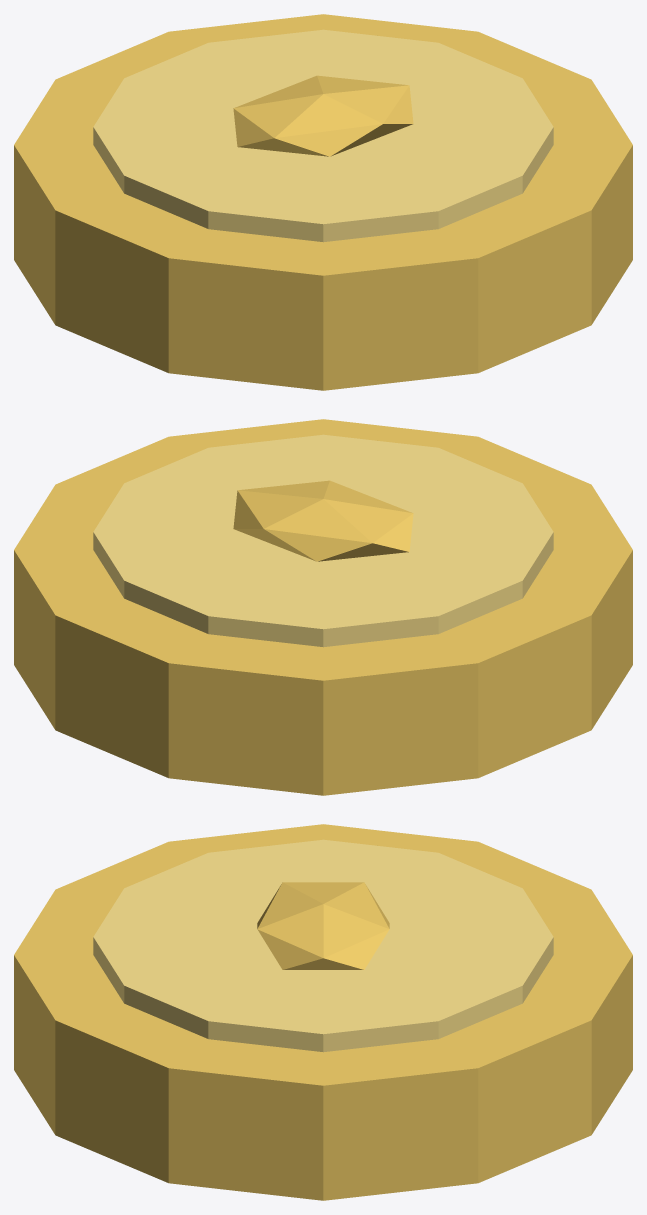
File: item_coin.glb
The picture shows the model from 3 angles, top to bottom: view 1: azimuth 30°, elevation 25°; view 2: azimuth 150°, elevation 25°; view 3: azimuth 270°, elevation 25°; orthographic projection.
Parts seen in each view (by area): view 1: coin, raised coin face, coin seed emblem; view 2: coin, raised coin face, coin seed emblem; view 3: coin, raised coin face, coin seed emblem.
Part boxes in pixels (x1,y1,x2,y2): coin: [14, 14, 632, 390]; raised coin face: [93, 29, 553, 242]; coin seed emblem: [233, 75, 413, 156]; coin: [14, 419, 632, 795]; raised coin face: [93, 434, 553, 647]; coin seed emblem: [233, 480, 413, 561]; coin: [14, 824, 632, 1200]; raised coin face: [93, 839, 553, 1052]; coin seed emblem: [257, 882, 389, 969].
Size of the model in its own units: 0.78 by 0.2308 by 0.78.
